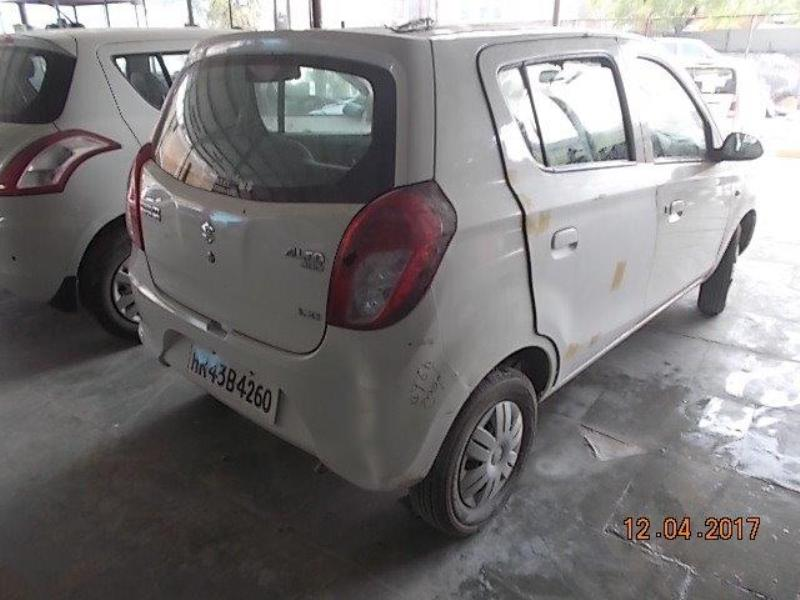Scratch_or_spot: (407, 357, 439, 407)
